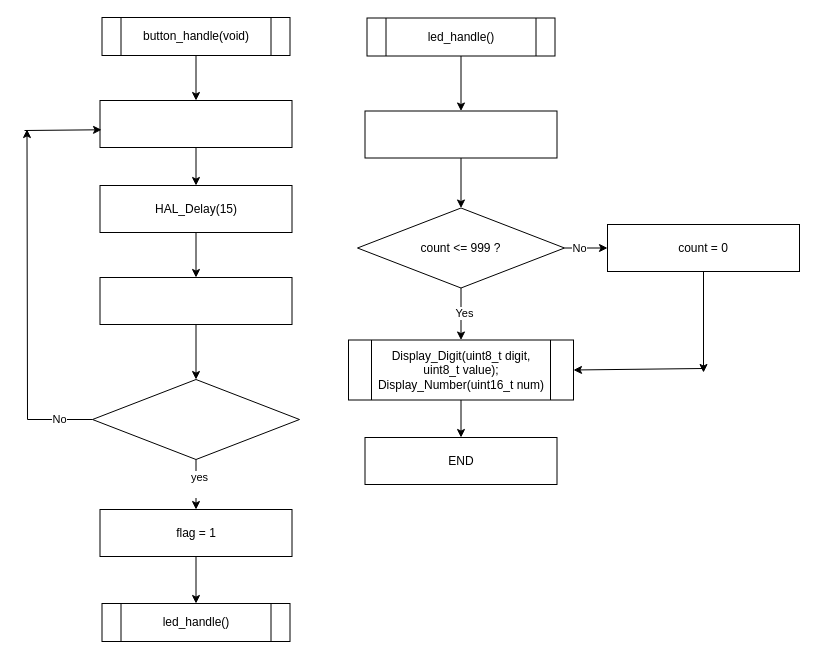
Image size: 817x659. Some labels were removed from this diagram. The shapes that lost their labels are listed below. From the top down, each one's centre as x and y in pixels, then its label:
At (195,124): "uint8_t pre_value = HAL_GPIO_ReadPin(GPIOA, GPIO_pin_12)".
At (460,134): "count++;".
At (195,300): "uint8_t cur_value = HAL_GPIO_ReadPin(GPIOA, GPIO_pin_12)".
At (196,419): "pre_value == cur_value ?".
